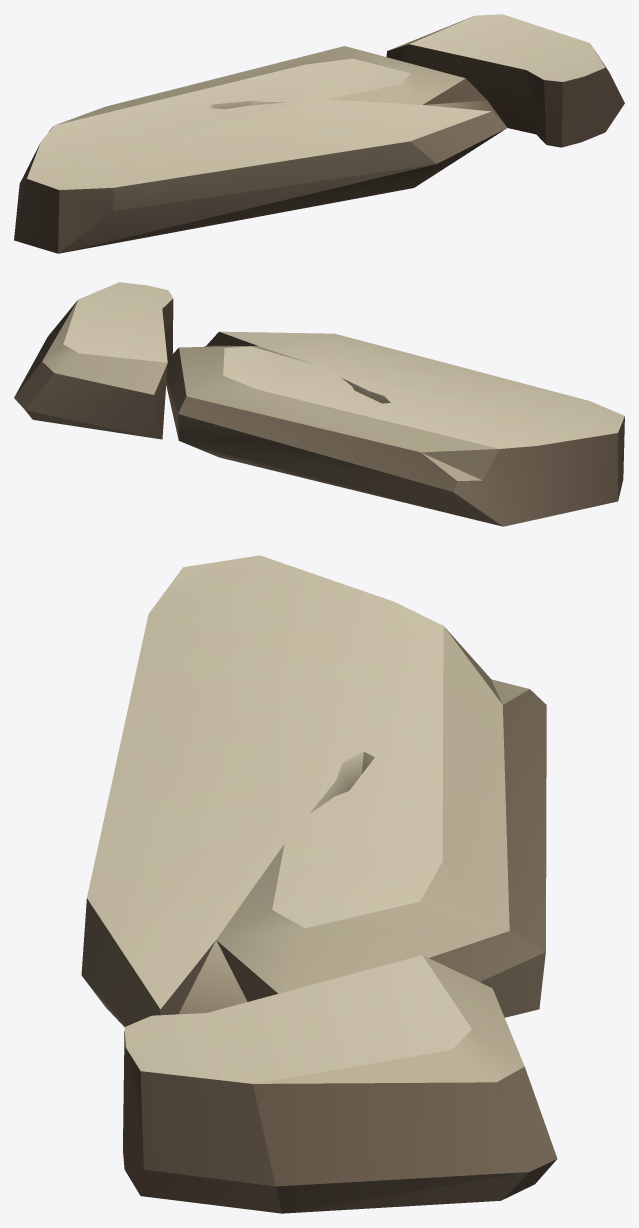
Rendered from Stone_Step_4B.fbx.
3 renders of one model, top to bottom at view 1: azimuth 30°, elevation 25°; view 2: azimuth 150°, elevation 25°; view 3: azimuth 270°, elevation 25°, orthographic. The views are drawn at different scales.
Visible parts, largest first — view 1: Stone_Step_4B; view 2: Stone_Step_4B; view 3: Stone_Step_4B.
Part boxes in pixels (x1,y1,x2,y2): Stone_Step_4B: [14, 14, 624, 253]; Stone_Step_4B: [14, 282, 624, 526]; Stone_Step_4B: [81, 555, 557, 1213].
Size of the model in its own units: 3.06 by 0.3189 by 1.1.
